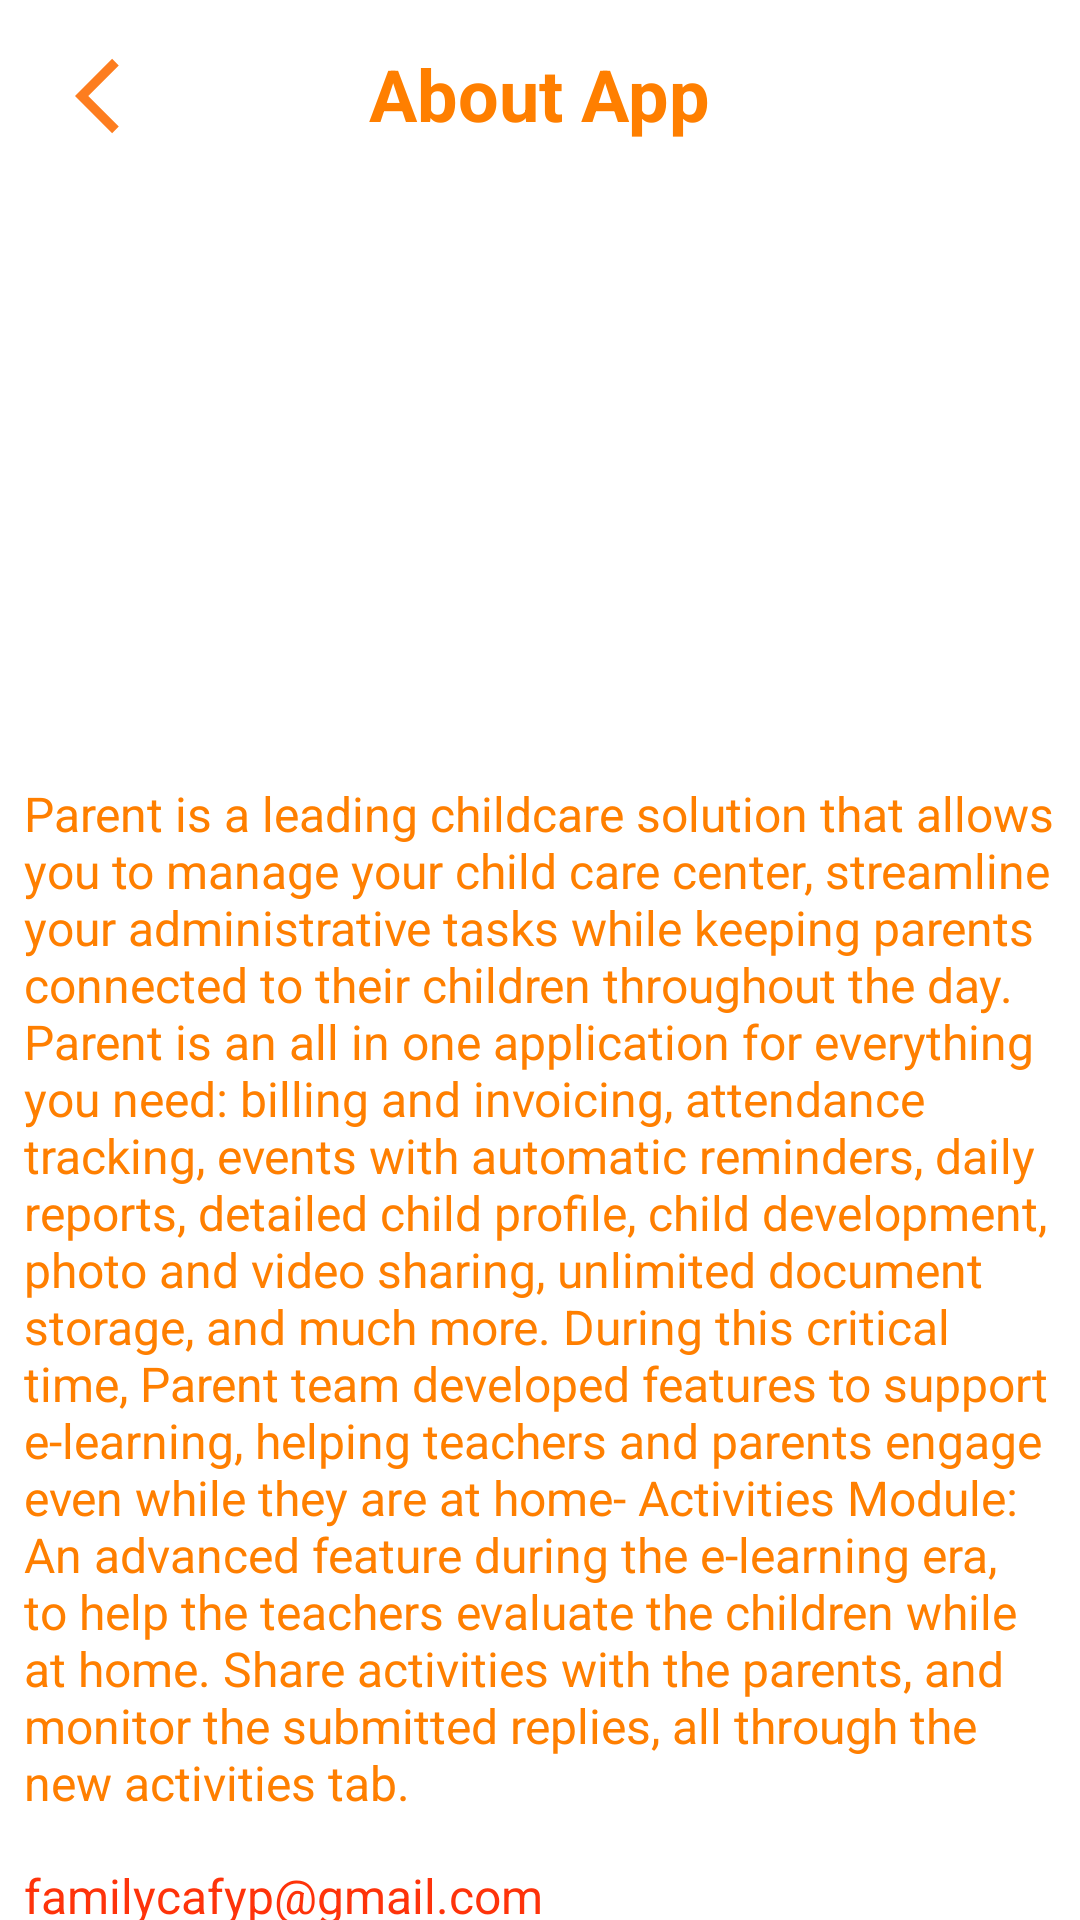

Named icons in this screenshot (1080px×1920px) and their centers, (x,y):
arrow back: (97,96)
